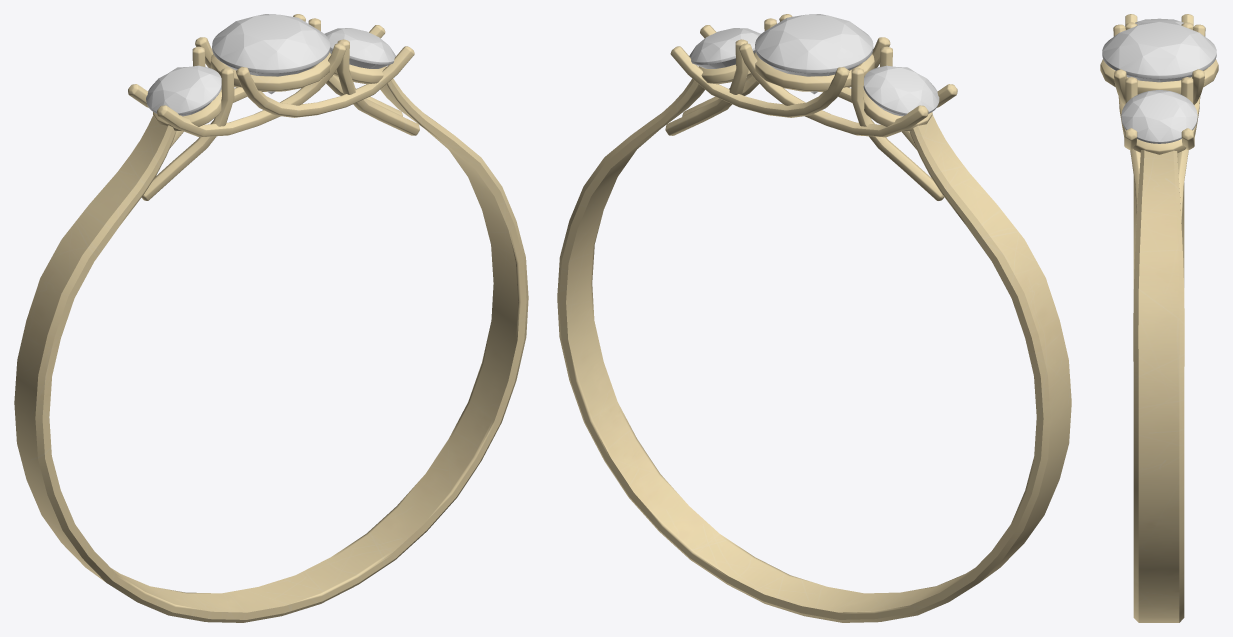
File: diamond_ring.glb
3 renders of one model, left to right at view 1: azimuth 30°, elevation 25°; view 2: azimuth 150°, elevation 25°; view 3: azimuth 270°, elevation 25°, orthographic. The views are drawn at different scales.
Parts seen in each view (by area): view 1: ring_02_mesh, decoration_02_002_mesh, jewels_02_big_mesh, jewels_02_small_002_mesh, jewels_02_small_001_mesh, decoration_02_003_mesh; view 2: ring_02_mesh, decoration_02_002_mesh, jewels_02_big_mesh, jewels_02_small_002_mesh, jewels_02_small_001_mesh, decoration_02_003_mesh, decoration_02_005_mesh; view 3: ring_02_mesh, jewels_02_big_mesh, jewels_02_small_001_mesh, decoration_02_002_mesh, decoration_02_003_mesh, decoration_02_004_mesh.
Part boxes in pixels (x1,y1,x2,y2): ring_02_mesh: (14, 78, 528, 622); decoration_02_002_mesh: (128, 14, 419, 200); jewels_02_big_mesh: (212, 14, 330, 94); jewels_02_small_002_mesh: (146, 65, 221, 116); jewels_02_small_001_mesh: (324, 28, 395, 68); decoration_02_003_mesh: (210, 52, 331, 91); ring_02_mesh: (557, 78, 1071, 622); decoration_02_002_mesh: (665, 14, 957, 200); jewels_02_big_mesh: (755, 14, 873, 94); jewels_02_small_002_mesh: (863, 65, 939, 116); jewels_02_small_001_mesh: (689, 28, 760, 68); decoration_02_003_mesh: (754, 52, 874, 91); decoration_02_005_mesh: (863, 89, 932, 131); ring_02_mesh: (1133, 150, 1184, 622); jewels_02_big_mesh: (1102, 21, 1216, 82); jewels_02_small_001_mesh: (1121, 90, 1197, 143); decoration_02_002_mesh: (1113, 14, 1205, 222); decoration_02_003_mesh: (1100, 59, 1218, 94); decoration_02_004_mesh: (1123, 127, 1195, 154).
Size of the model in its own units: 0.0238 by 0.0268 by 0.00511.
Materials: 1 (1 with a texture image).
